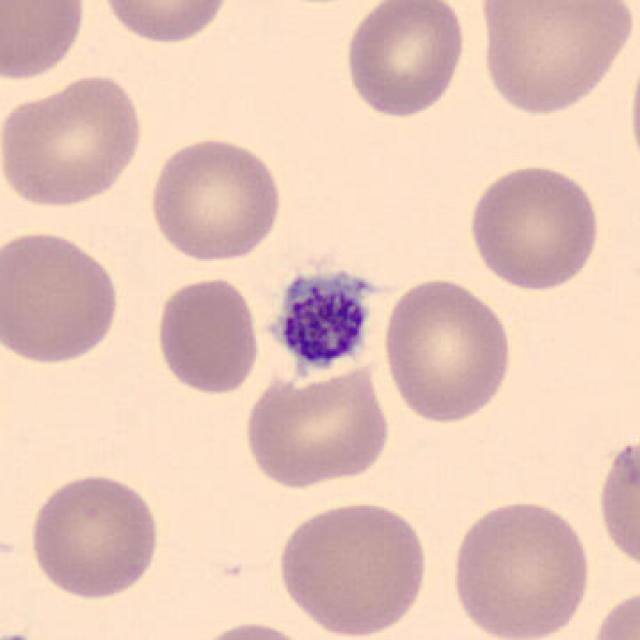Platelets: (261, 262, 375, 376)
RBC: (274, 497, 432, 638), (446, 493, 595, 640), (377, 274, 515, 428), (0, 70, 148, 212), (238, 360, 395, 492), (473, 0, 636, 118), (464, 158, 604, 292), (144, 133, 286, 264), (25, 469, 163, 603), (0, 225, 124, 368), (340, 0, 470, 122), (151, 274, 263, 398), (0, 0, 89, 85), (592, 430, 640, 578), (95, 0, 236, 48), (585, 582, 638, 640), (187, 617, 320, 640), (626, 38, 640, 188)
